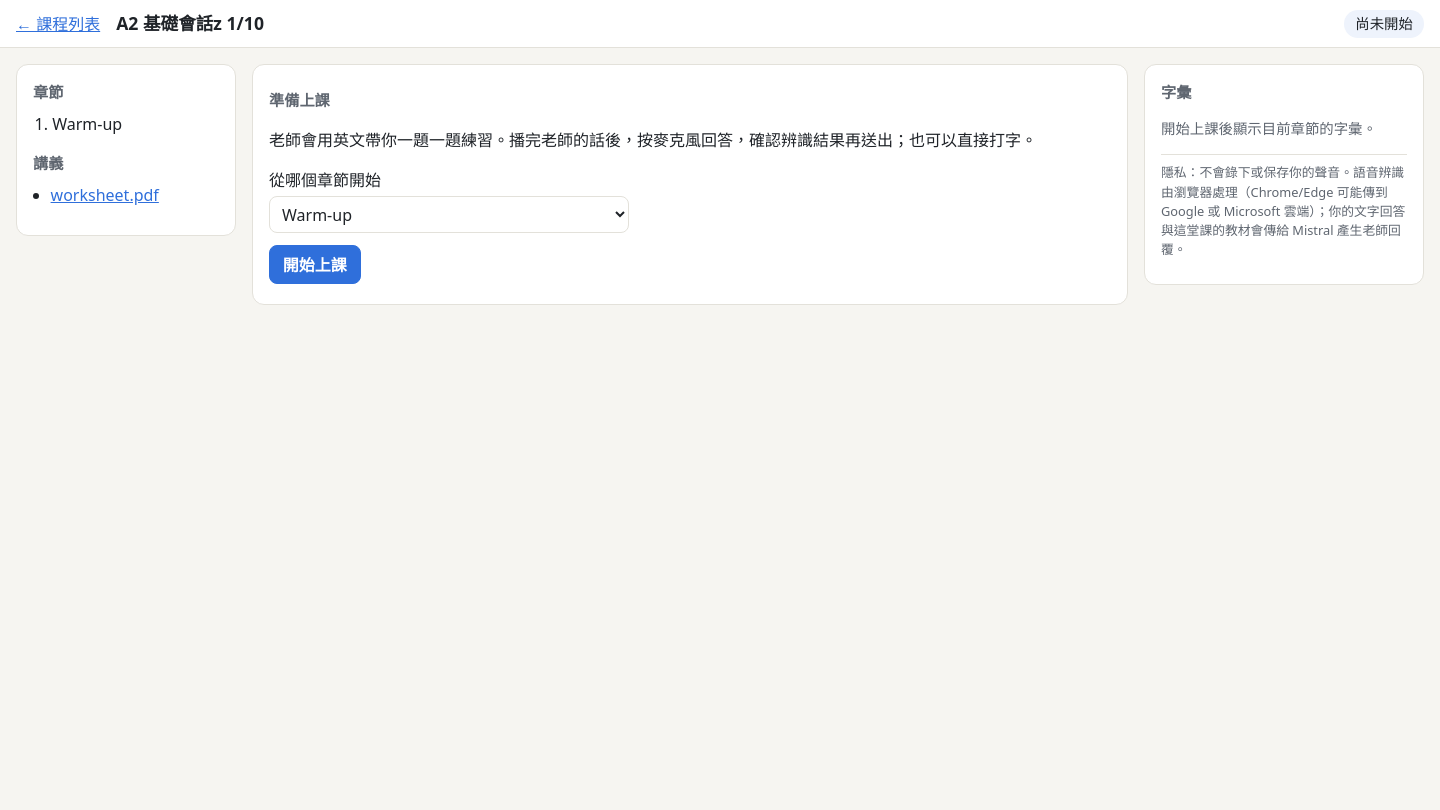
Test: classroom › records, shows an editable transcript, and submits only the reviewed text (AT-03, AT-08)
Step 1. Click the button "開始上課" → point(315, 265), box [269,245,361,284]
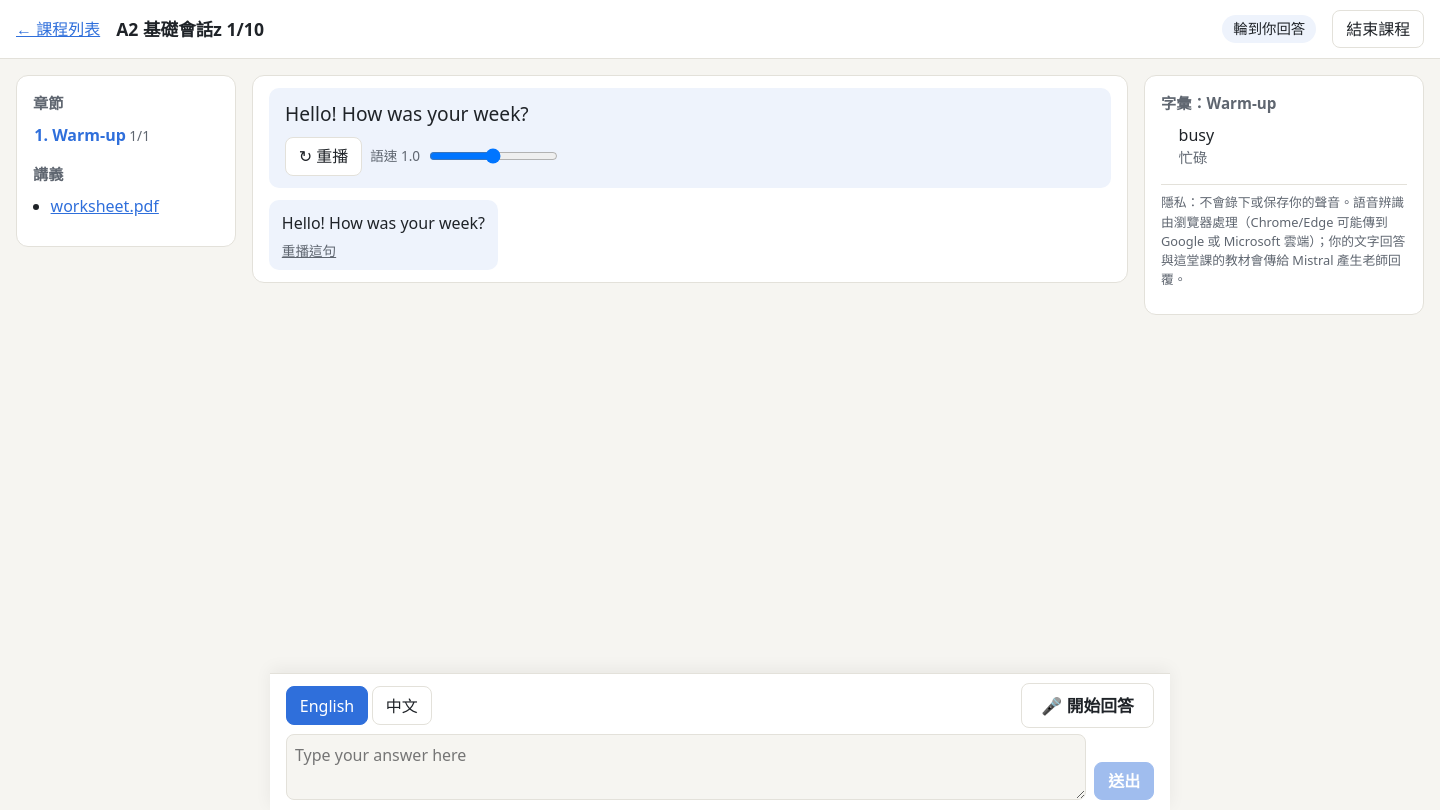
expect the 1st text "Hello! How was your week?" is shown: met, box [285,100,529,127]
Step 2. Click the button "🎤 開始回答" → point(1088, 706), box [1021,683,1154,728]
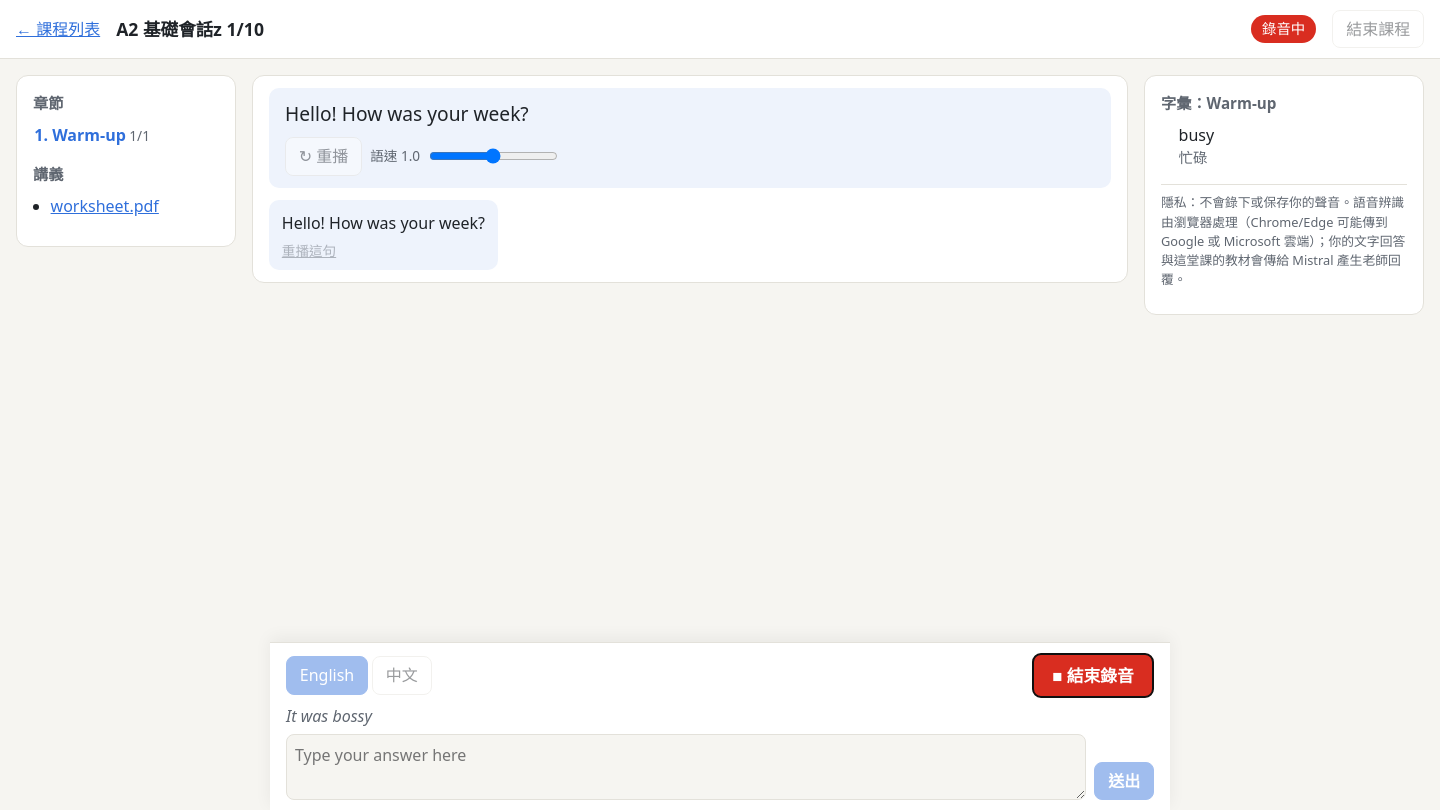
expect the text with class "status" reads "錄音中": met, box [1262,19,1305,38]
Step 3. Click the button "■ 結束錄音" → point(1093, 675), box [1032,653,1154,698]
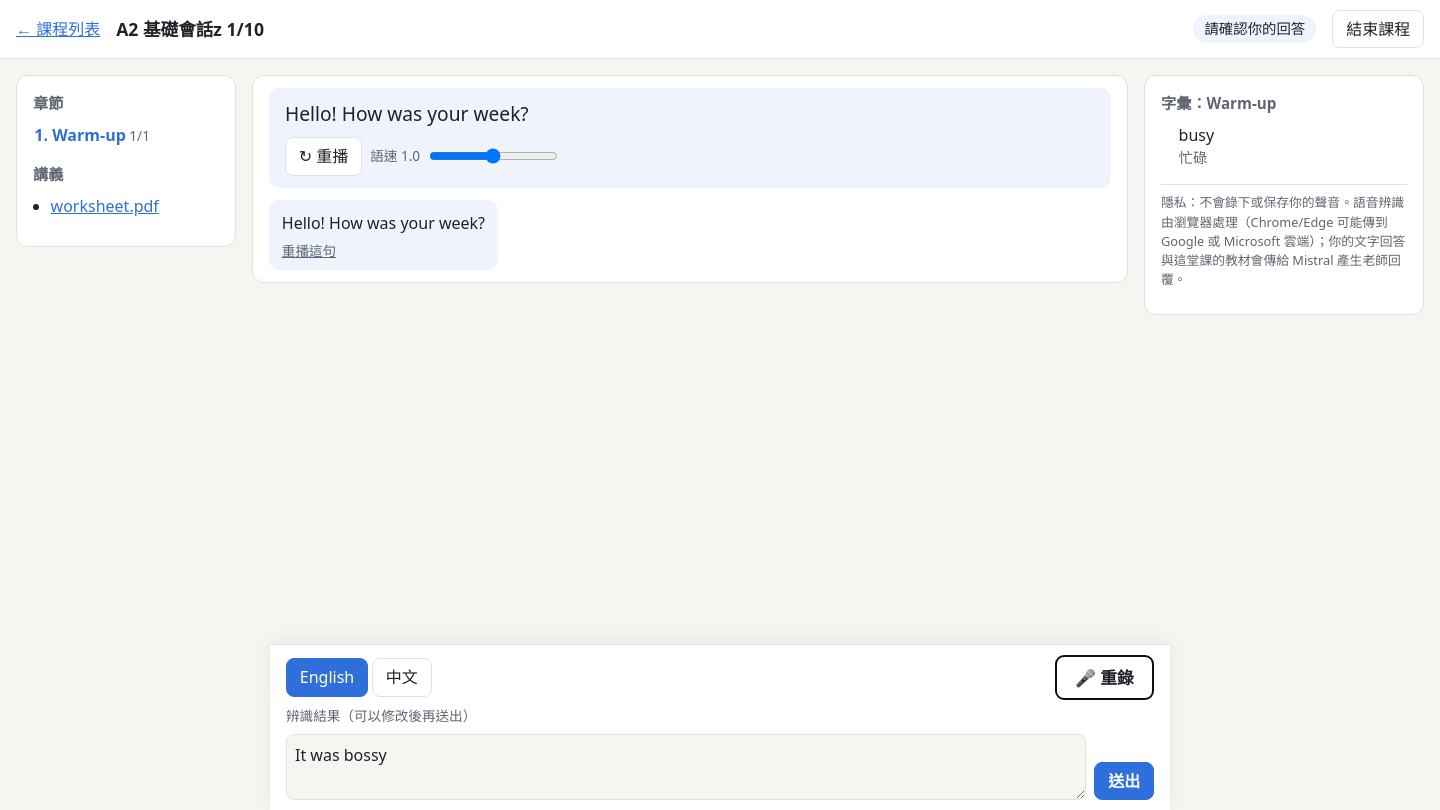
expect the text box labelled "辨識結果（可以修改後再送出）" holds "It was bossy": met
Step 4. Replace the text in the text box labelled "辨識結果（可以修改後再送出）" with "It was busy." → point(686, 767), box [286,734,1086,800]
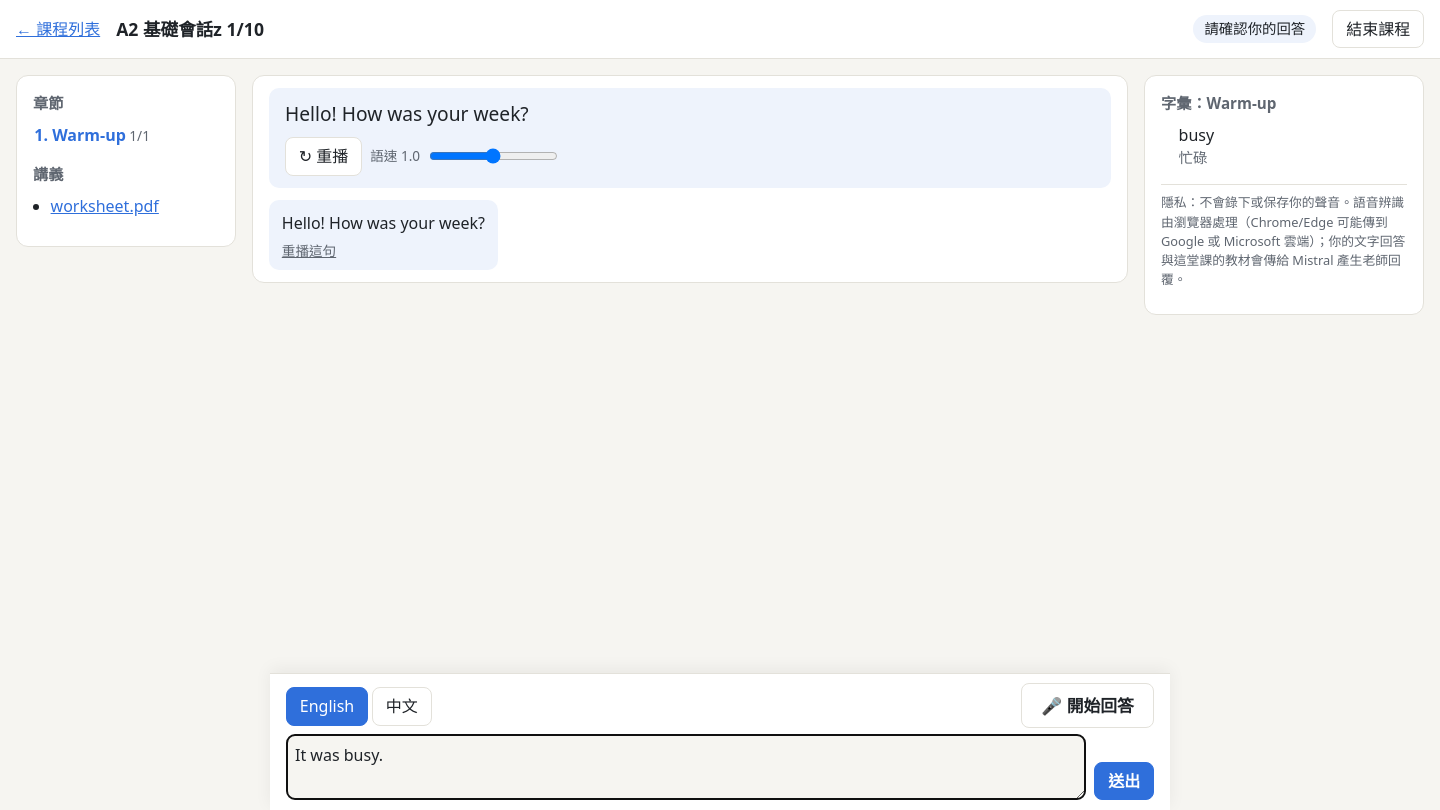
Step 5. Click the button "送出" → point(1124, 781), box [1094,762,1154,800]
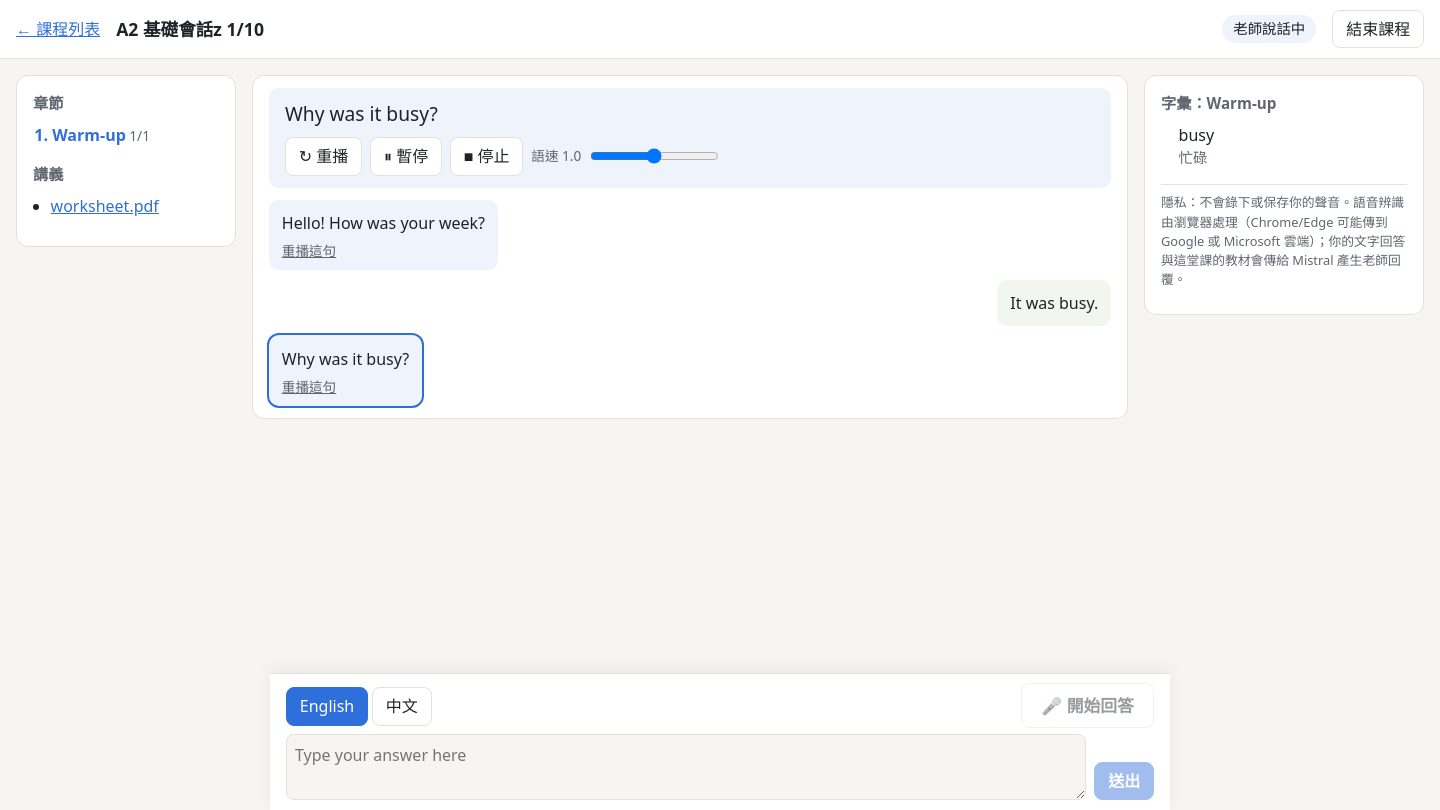
expect the 1st text "Why was it busy?" is shown: met, box [285,100,438,127]
